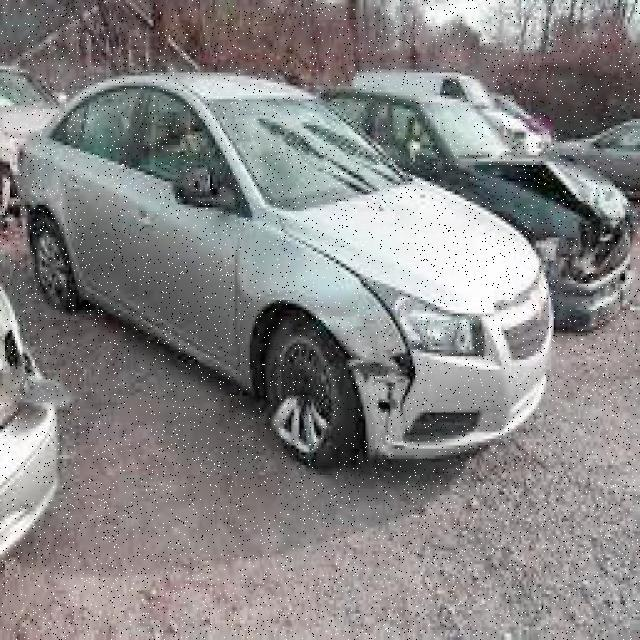car damage: (236, 234, 436, 472)
